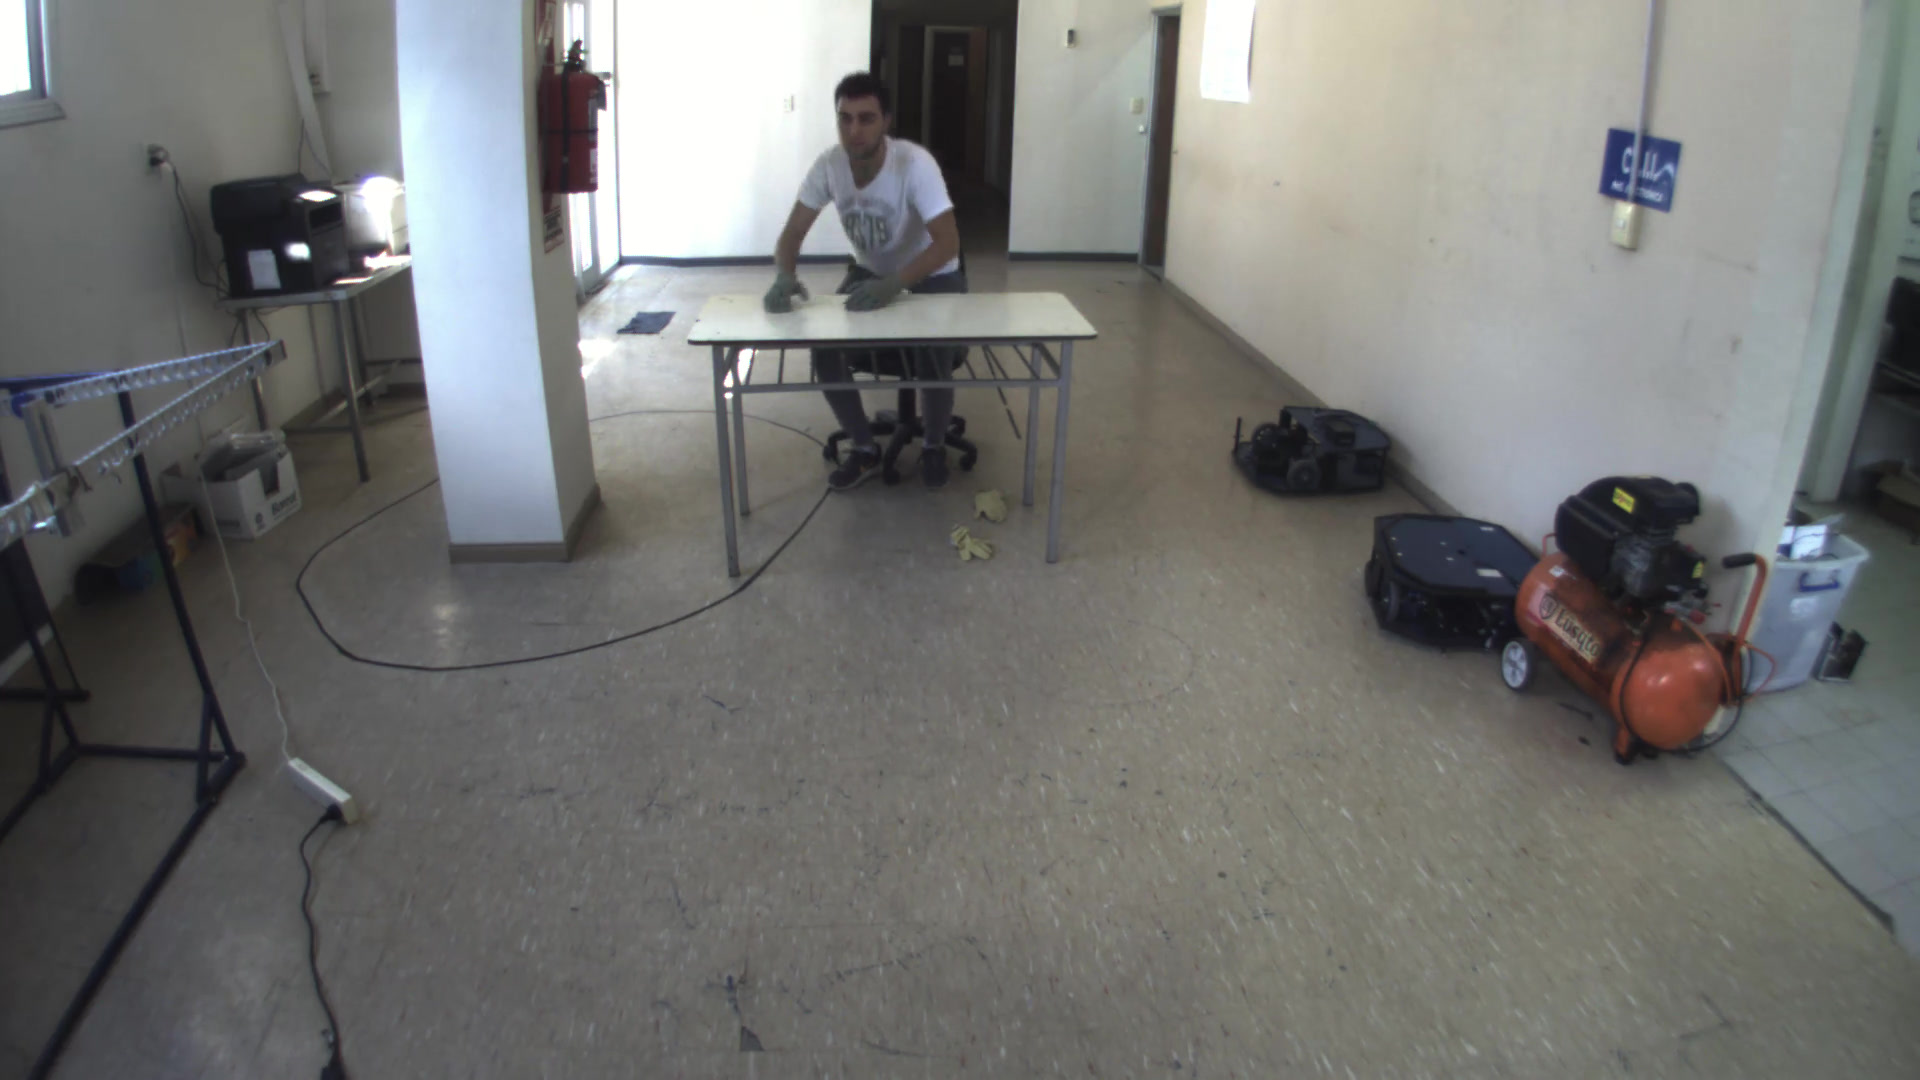hand: (837, 262, 906, 315), (748, 269, 816, 319)
